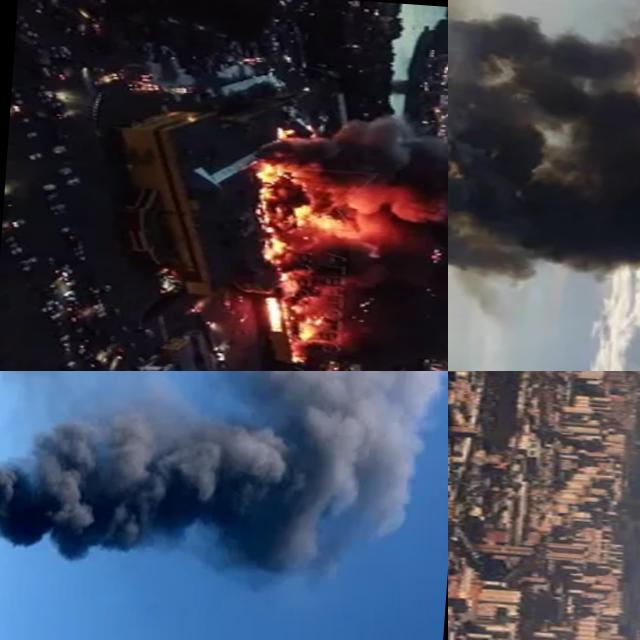smoke: (0, 371, 440, 596), (448, 0, 640, 305), (278, 78, 448, 371)
